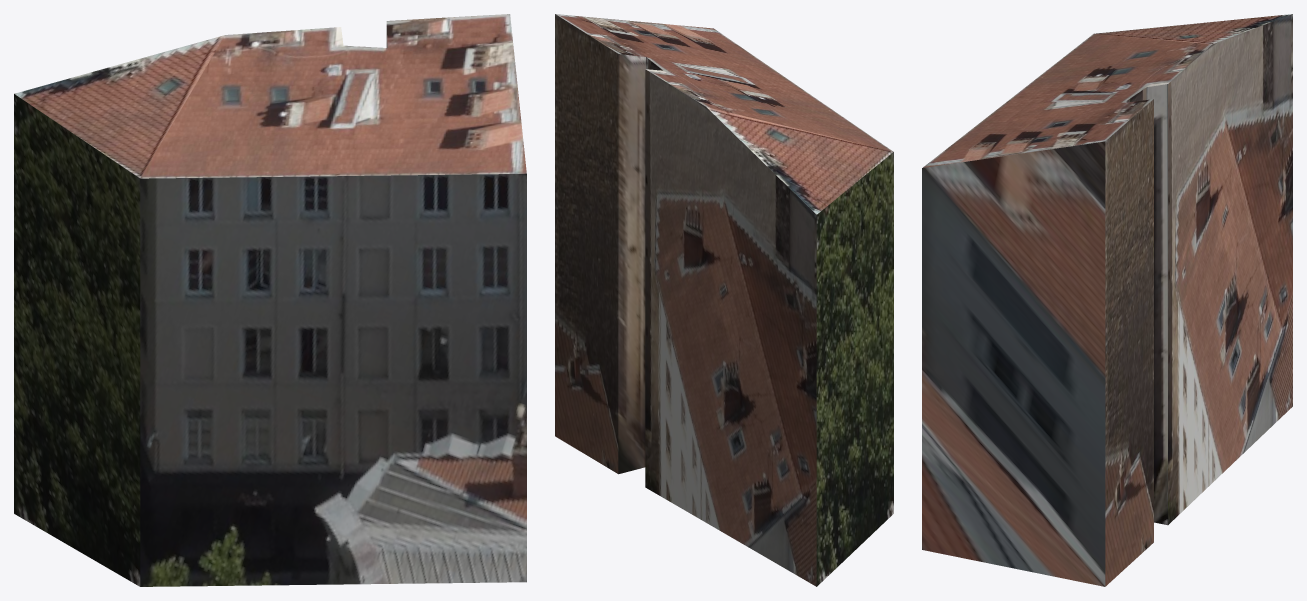
3 renders of one model, left to right at view 1: azimuth 30°, elevation 25°; view 2: azimuth 150°, elevation 25°; view 3: azimuth 270°, elevation 25°, orthographic. The views are drawn at different scales.
Visible parts, largest first — view 1: Z_UP; view 2: Z_UP; view 3: Z_UP.
Part boxes in pixels (left/top/right/bottom): Z_UP: left=14, top=14, right=526, bottom=586; Z_UP: left=555, top=14, right=893, bottom=586; Z_UP: left=922, top=14, right=1292, bottom=586.
Bounding box in the file's own units: 20.57 × 23.68 × 17.86.
Materials: 2 (1 with a texture image).
